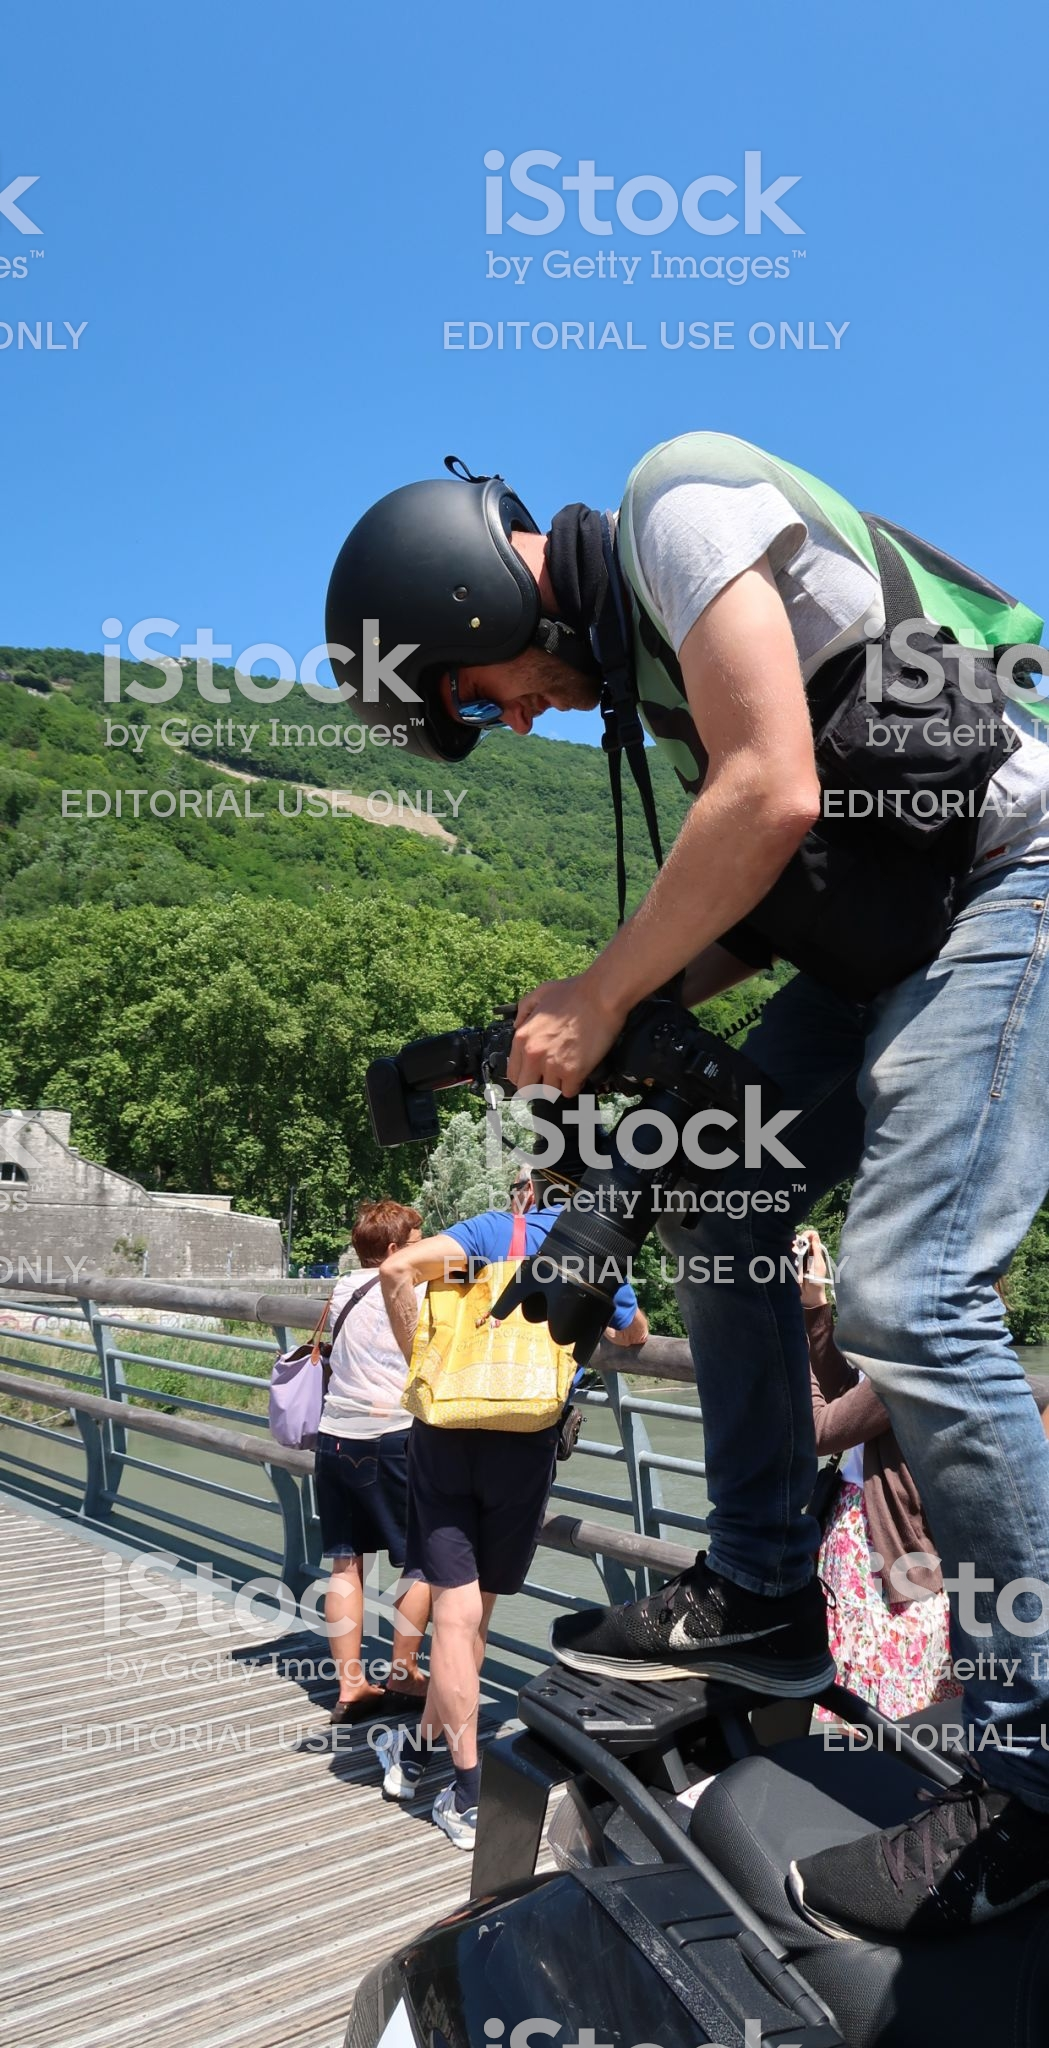helmet: (340, 486, 611, 741)
